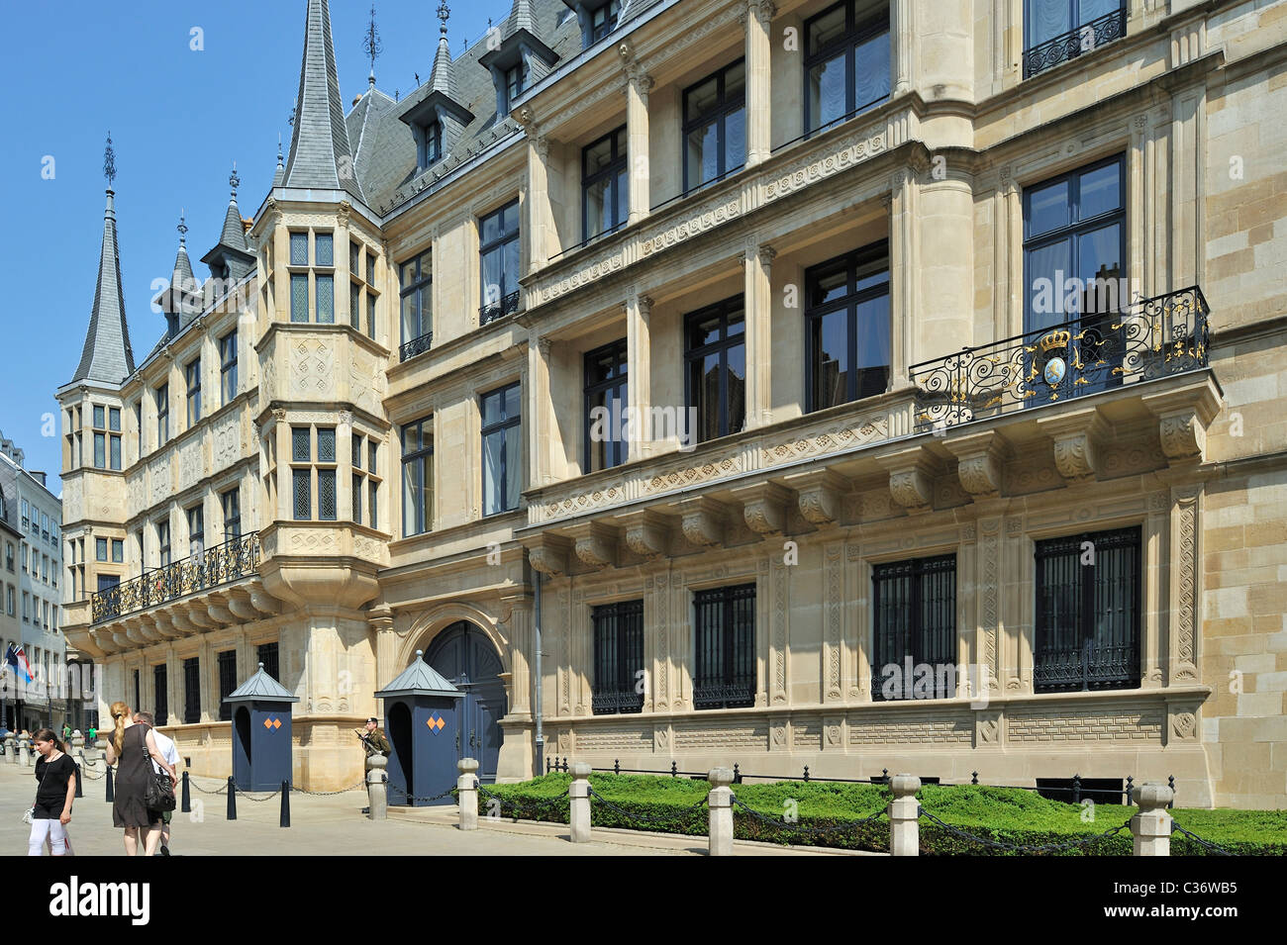Videoprojecteur: (361, 156, 693, 287)
